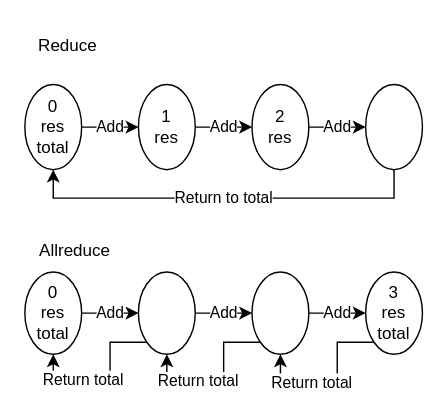
This 447x419 diagram has some shape labels left out. Each missing label, with the centre of its shape:
"1 res total" belongs at (166,312).
"2 res total" belongs at (280,312).
"3 res" belongs at (393,126).
